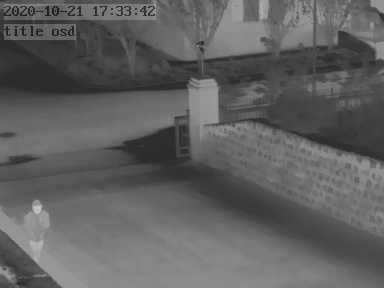person: (23, 197, 51, 265)
